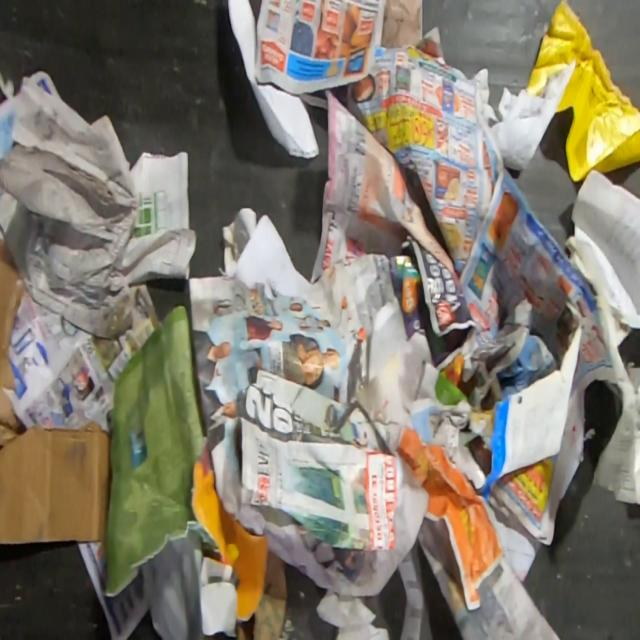cardboard: (0, 236, 111, 545), (236, 551, 289, 640)
